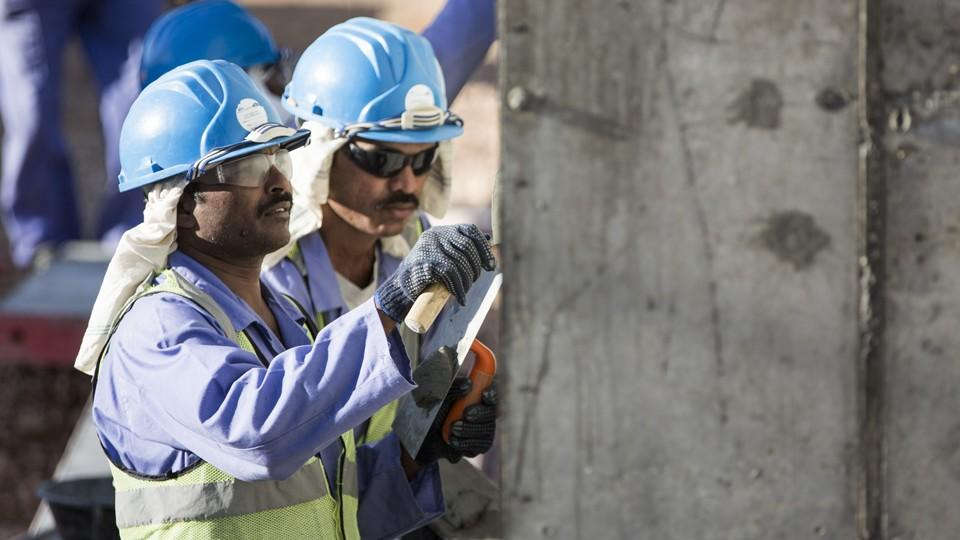helmet: (115, 60, 312, 198), (281, 16, 467, 148), (140, 1, 305, 82)
